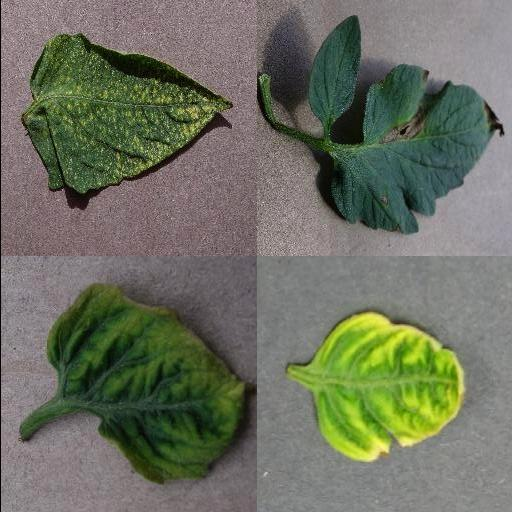Early Blight: (325, 68, 505, 236)
Spider Mites: (20, 31, 234, 193)
Yellow Leaf Curl Virus: (47, 281, 247, 485), (310, 312, 466, 460)
